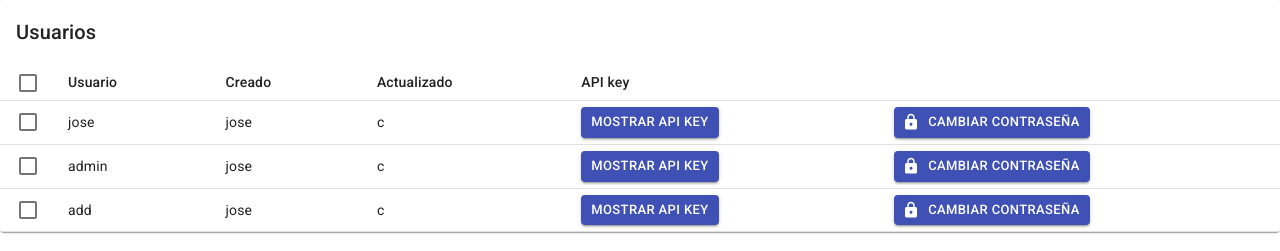
checkbox check › delete selected users dont show in the table
Step 1. Click the checkbox named "table row checkbox" → coordinates (28, 122), box [16,110,40,134]
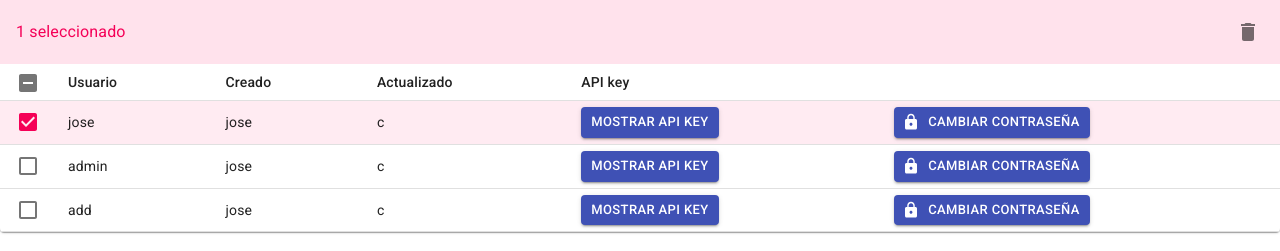
Step 2. Click the checkbox named "table row checkbox" → coordinates (28, 166), box [16,154,40,178]
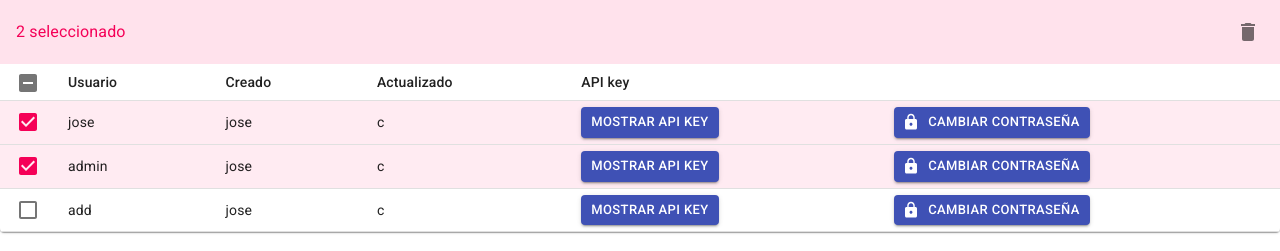
Step 3. Click the button named "borrar" → coordinates (1248, 32), box [1224,8,1272,56]
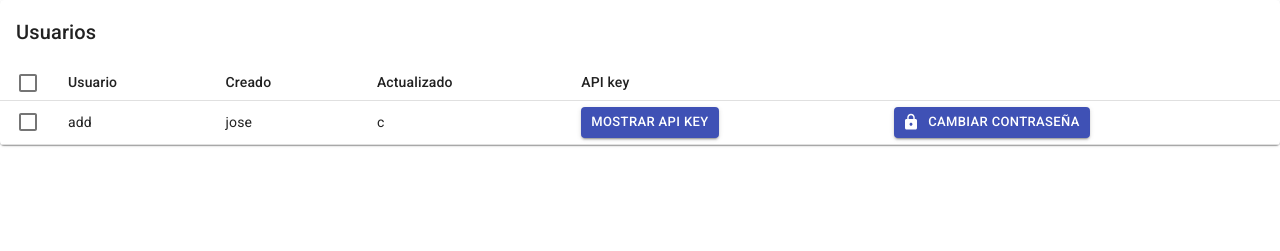
Check: the text "Mostrar API Key" is shown once, box [591,111,708,134]
